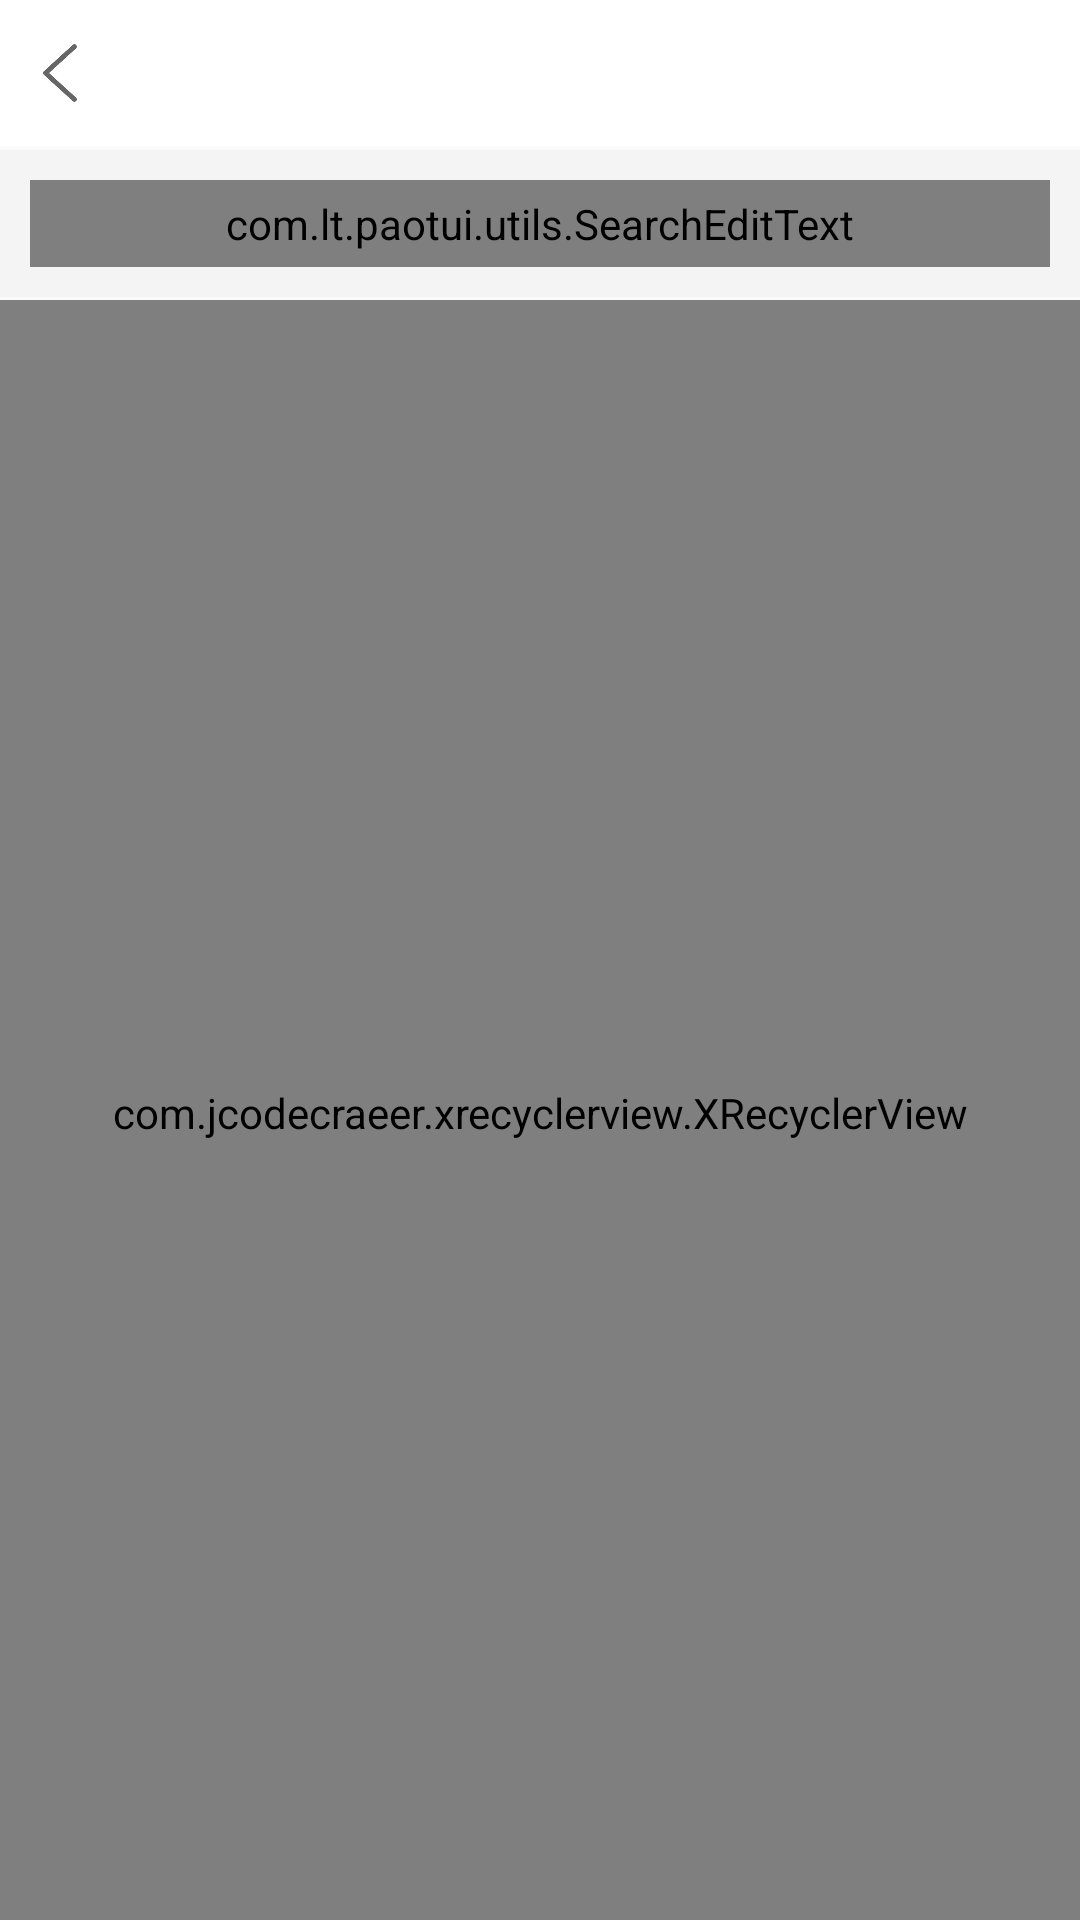

Screen size 1080px x 1920px. Icon name, then its center in pixels as [x,y]:
back: [60,73]
